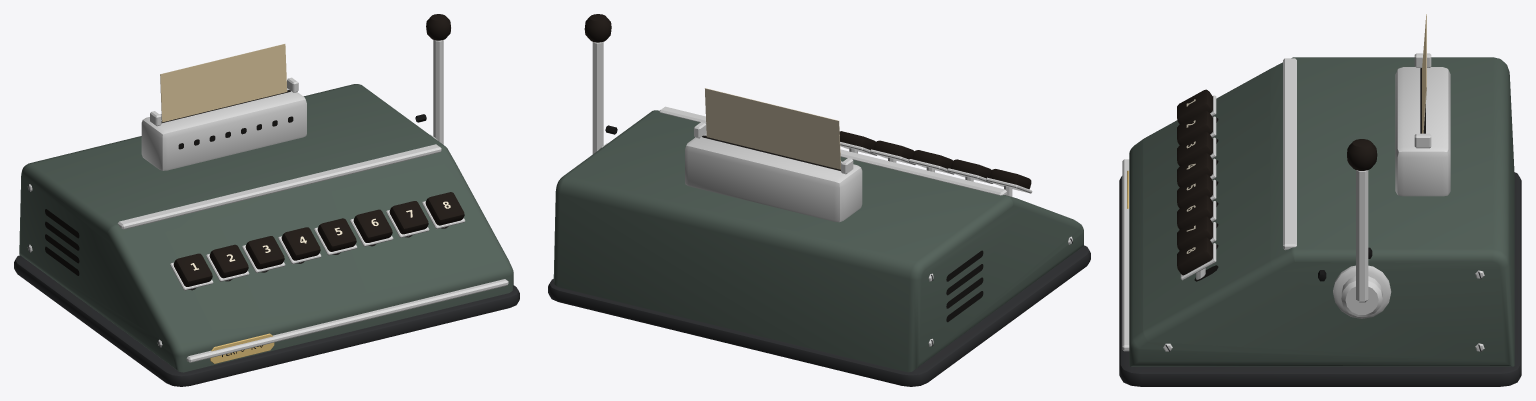
File: card_punch.glb
The picture shows the model from 3 angles, left to right: view 1: azimuth 30°, elevation 25°; view 2: azimuth 150°, elevation 25°; view 3: azimuth 270°, elevation 25°; orthographic projection. The views are drawn at different scales.
Parts seen in each view (by area): view 1: punch_body, IA_punch_slot, card_in_punch, IA_punch_lever, IA_punch_key_5, IA_punch_key_4, IA_punch_key_0, IA_punch_key_3, IA_punch_key_6, IA_punch_key_7, IA_punch_key_1, IA_punch_key_2; view 2: punch_body, IA_punch_slot, card_in_punch, IA_punch_lever, IA_punch_key_0, IA_punch_key_3, IA_punch_key_1, IA_punch_key_2, IA_punch_key_4; view 3: punch_body, IA_punch_slot, IA_punch_lever, IA_punch_key_7, IA_punch_key_0, IA_punch_key_4, IA_punch_key_1, IA_punch_key_6, IA_punch_key_3, IA_punch_key_5, IA_punch_key_2, card_in_punch.
Part boxes in pixels (box(x1,y1,x2,y2)): punch_body: box(14, 84, 519, 386); IA_punch_slot: box(141, 77, 306, 170); card_in_punch: box(160, 44, 287, 122); IA_punch_lever: box(426, 14, 450, 144); IA_punch_key_5: box(350, 209, 393, 246); IA_punch_key_4: box(314, 218, 357, 255); IA_punch_key_0: box(170, 253, 213, 290); IA_punch_key_3: box(278, 227, 321, 264); IA_punch_key_6: box(386, 201, 429, 237); IA_punch_key_7: box(422, 192, 465, 228); IA_punch_key_1: box(206, 244, 249, 281); IA_punch_key_2: box(242, 236, 285, 272); punch_body: box(548, 106, 1090, 386); IA_punch_slot: box(685, 122, 862, 222); card_in_punch: box(705, 88, 840, 169); IA_punch_lever: box(584, 14, 611, 154); IA_punch_key_0: box(986, 169, 1032, 196); IA_punch_key_3: box(870, 140, 915, 165); IA_punch_key_1: box(947, 159, 992, 183); IA_punch_key_2: box(908, 150, 954, 174); IA_punch_key_4: box(839, 131, 876, 155); punch_body: box(1119, 57, 1521, 386); IA_punch_slot: box(1395, 53, 1450, 196); IA_punch_lever: box(1341, 139, 1382, 316); IA_punch_key_7: box(1177, 237, 1216, 280); IA_punch_key_0: box(1177, 89, 1216, 124); IA_punch_key_4: box(1177, 174, 1216, 208); IA_punch_key_1: box(1177, 110, 1216, 145); IA_punch_key_6: box(1177, 216, 1216, 250); IA_punch_key_3: box(1177, 153, 1216, 187); IA_punch_key_5: box(1177, 195, 1216, 229); IA_punch_key_2: box(1177, 132, 1216, 166); card_in_punch: box(1422, 14, 1426, 133).
Bounding box in the file's own units: 0.3757 × 0.203 × 0.29.
